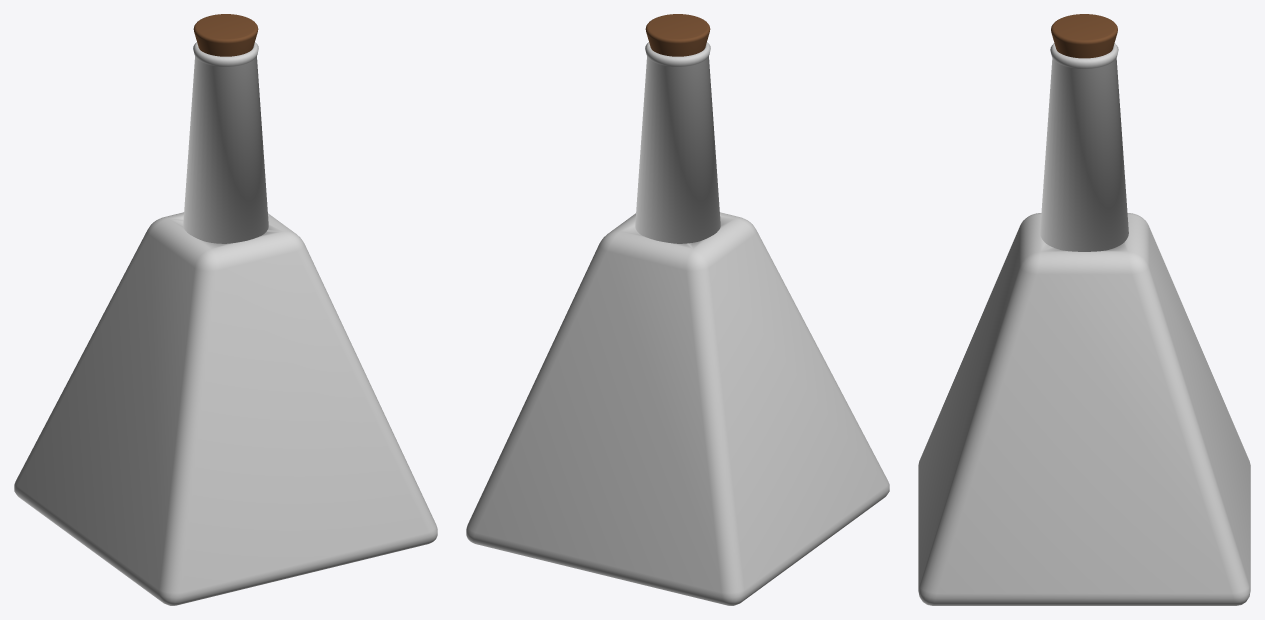
The model's file is Potion_4.fbx.
3 views of the same model, side by side, from view 1: azimuth 30°, elevation 25°; view 2: azimuth 150°, elevation 25°; view 3: azimuth 270°, elevation 25° (orthographic). The views are drawn at different scales.
Parts seen in each view (by area): view 1: Potion_4; view 2: Potion_4; view 3: Potion_4.
Boxes of the visible parts, x1=… form: Potion_4: x1=14, y1=14, x2=437, y2=605; Potion_4: x1=466, y1=14, x2=889, y2=605; Potion_4: x1=918, y1=14, x2=1250, y2=605.
Size of the model in its own units: 54.08 by 92.18 by 54.08.
